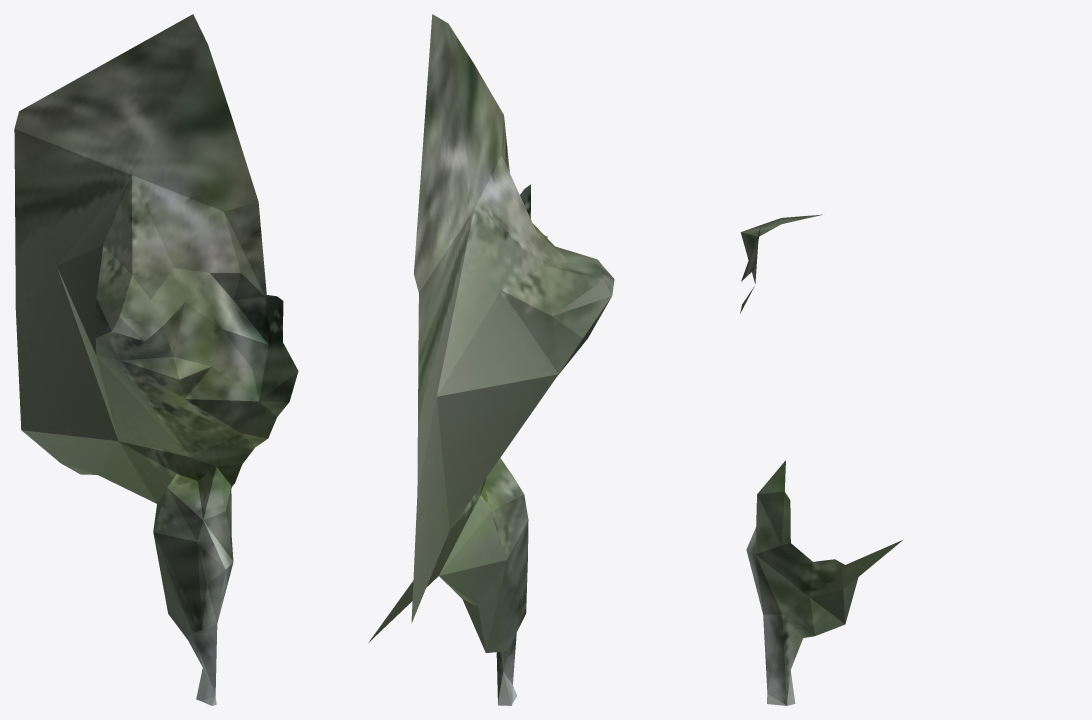
3 views of the same model, side by side, from view 1: azimuth 30°, elevation 25°; view 2: azimuth 150°, elevation 25°; view 3: azimuth 270°, elevation 25° (orthographic). The views are drawn at different scales.
Bounding box in the file's own units: 2.81 × 14.2 × 7.96.
1 material, 1 textured.
